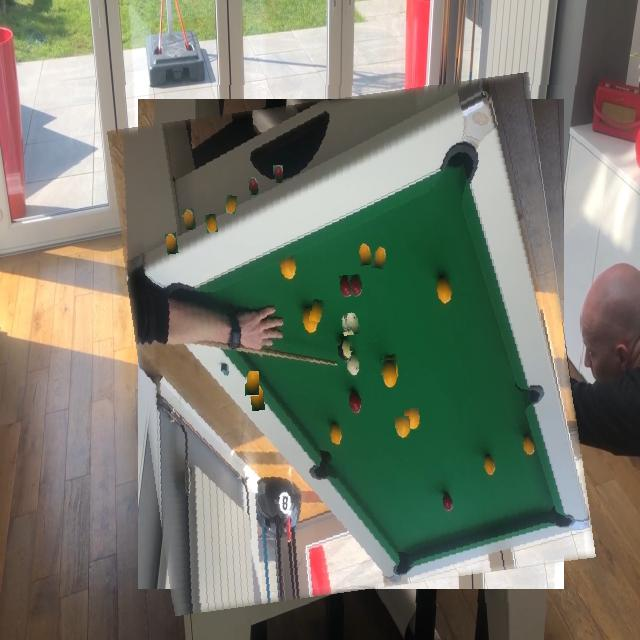Ball: (382, 360, 397, 388), (351, 326, 367, 352), (311, 299, 327, 323), (396, 416, 412, 439), (246, 372, 259, 398), (346, 313, 360, 335), (373, 246, 386, 269), (183, 209, 196, 230), (350, 275, 362, 297), (225, 196, 238, 214), (274, 165, 283, 183)
Billiard table: (124, 85, 582, 603)
